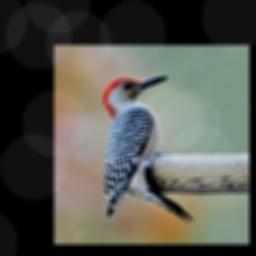Woodpecker: (93, 69, 200, 233)
